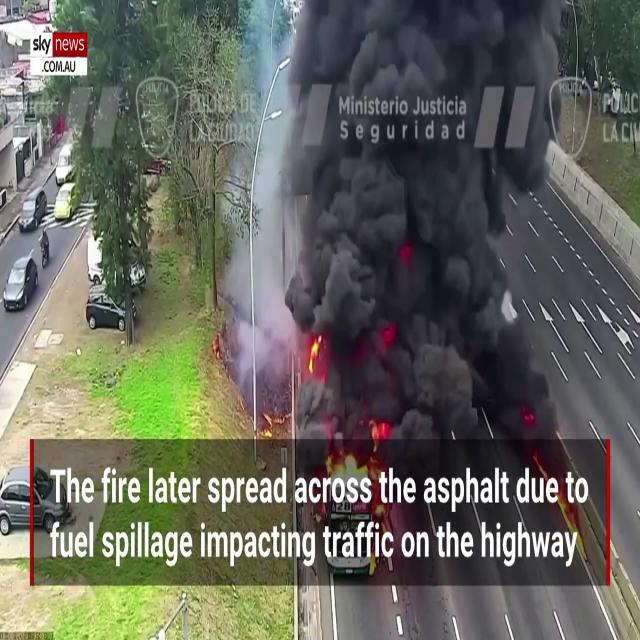Smoke: (254, 0, 557, 420)
